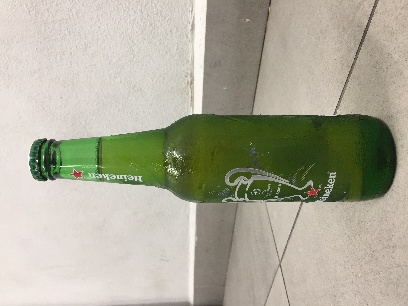HB: (152, 115, 251, 147), (50, 117, 106, 131)
